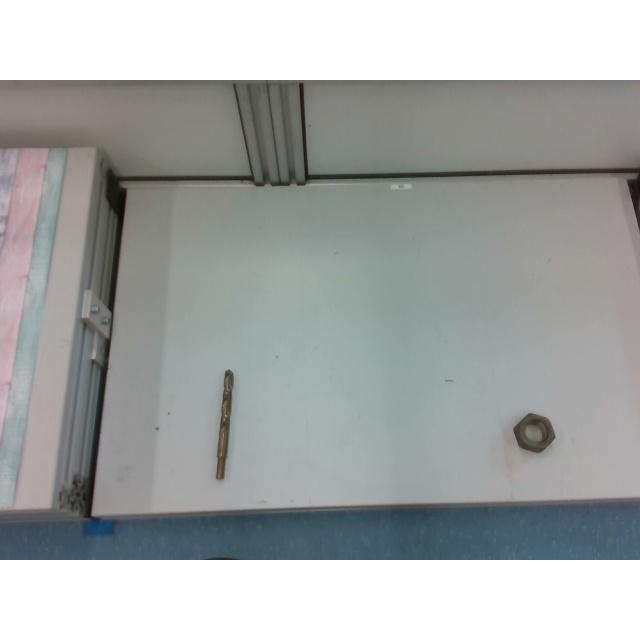Drill: (216, 369, 234, 479)
M30: (514, 412, 554, 452)
